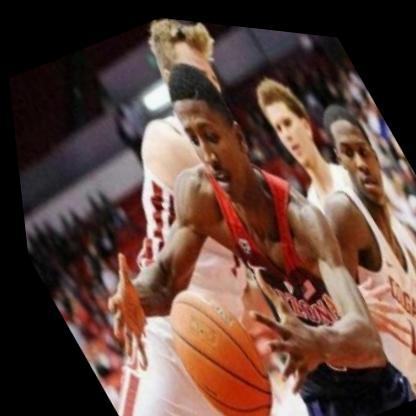basketball: (133, 259, 294, 416)
